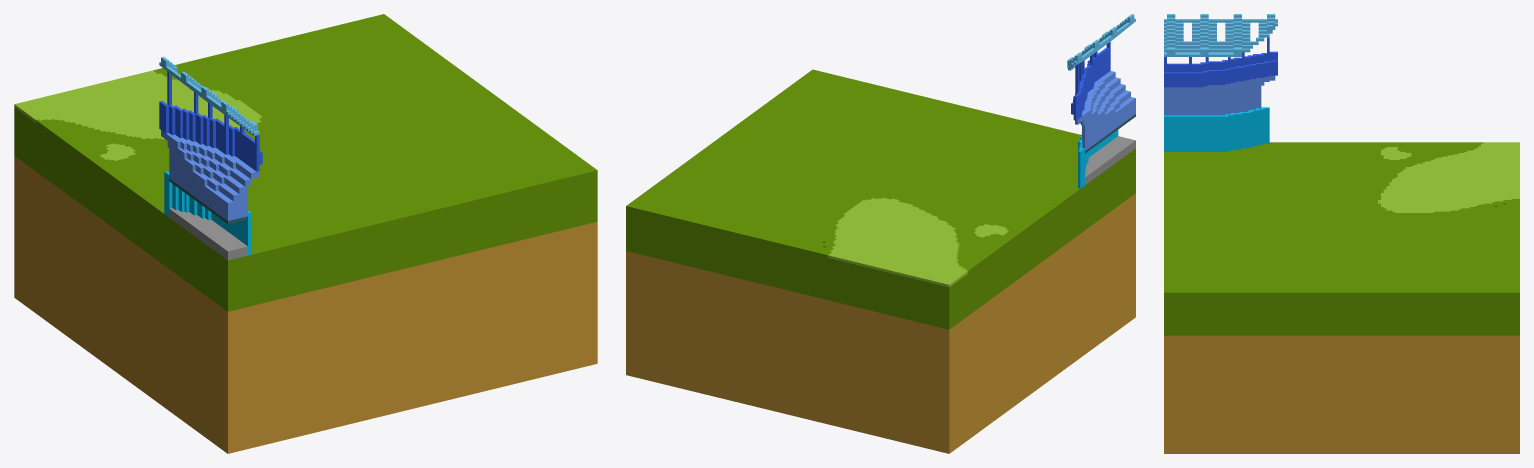
3 renders of one model, left to right at view 1: azimuth 30°, elevation 25°; view 2: azimuth 150°, elevation 25°; view 3: azimuth 270°, elevation 25°, orthographic. The views are drawn at different scales.
Parts seen in each view (by area): view 1: 4L-1.001; view 2: 4L-1.001; view 3: 4L-1.001.
Boxes of the visible parts, <box> form: 4L-1.001: <box>14,14,597,453</box>; 4L-1.001: <box>626,14,1135,453</box>; 4L-1.001: <box>1164,14,1519,453</box>.
Bounding box in the file's own units: 12.8 × 11.5 × 12.8.
Materials: 1 (1 with a texture image).
